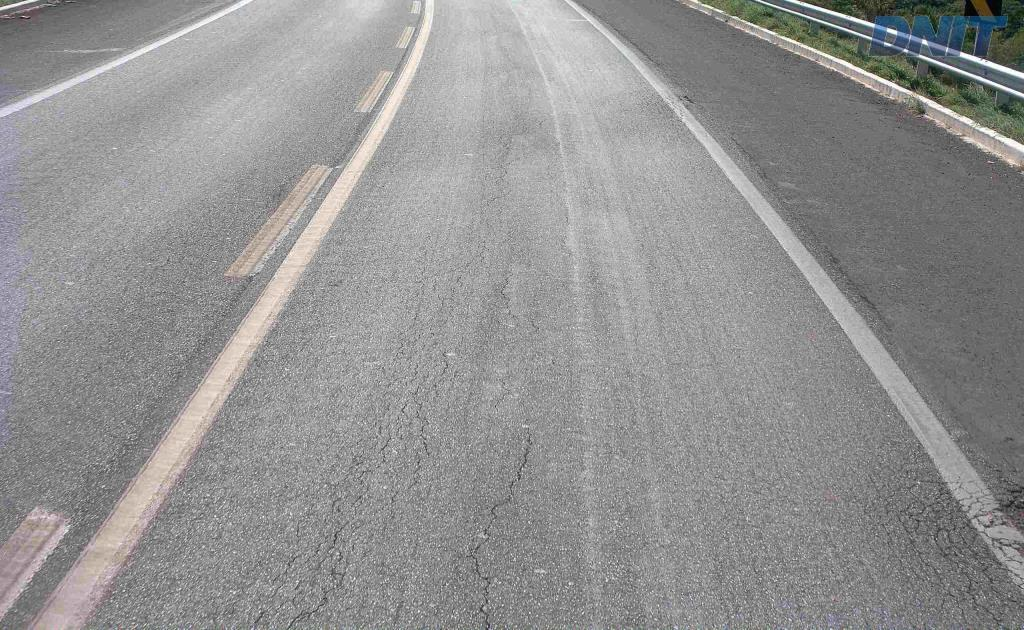crack: (895, 487, 1023, 629)
